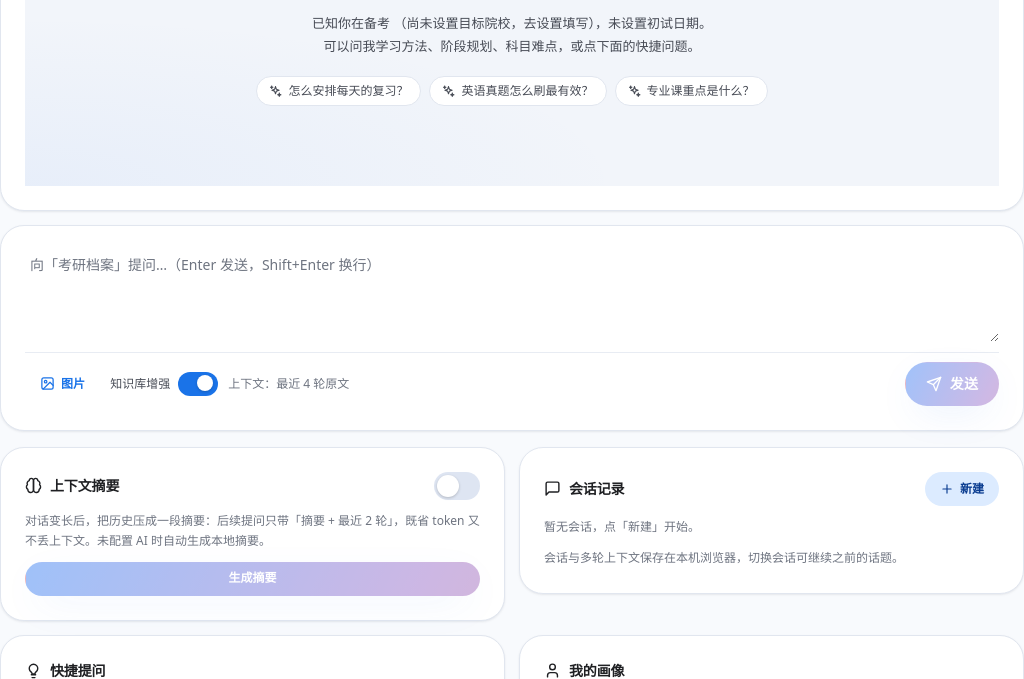
it: AI 助手失败态必须可见（P0-5） › ③ 网络错误：出现「网络错误」气泡 + 重试按钮
(page scrolled)
Type "怎么安排每天的复习？" into the text box with placeholder "向「考研档案」提问…（Enter 发送，Shift+Enter 换行）" at (512, 296), box [25, 250, 999, 342]
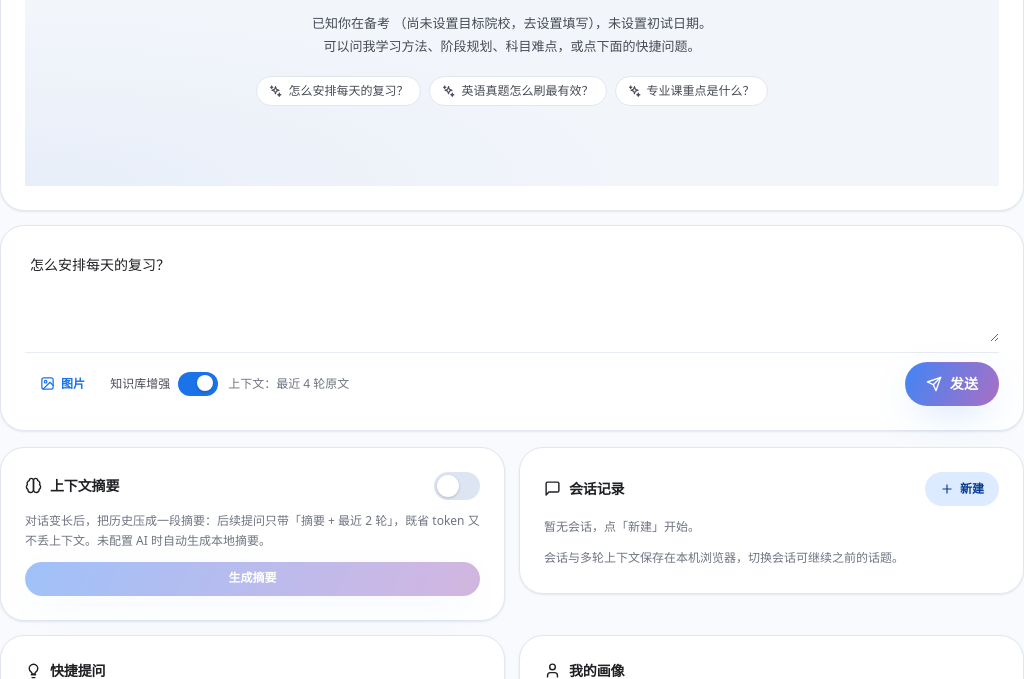
Press Enter in the text box named "向 AI 助手提问", box [25, 250, 999, 342]
(page scrolled)
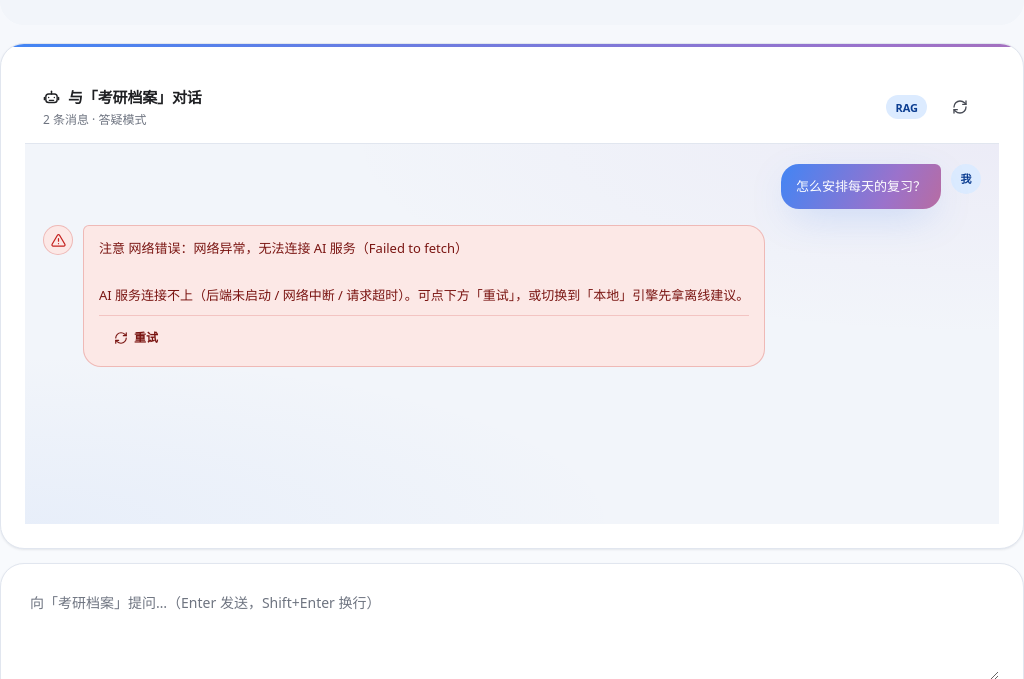
Expected: the 2nd element with class "is-error" is shown, [83, 225, 765, 366]
Expected: the element with class "is-error" shows "网络错误", [99, 239, 749, 304]
Expected: the element with class "is-error" shows "重试", [99, 320, 173, 354]
